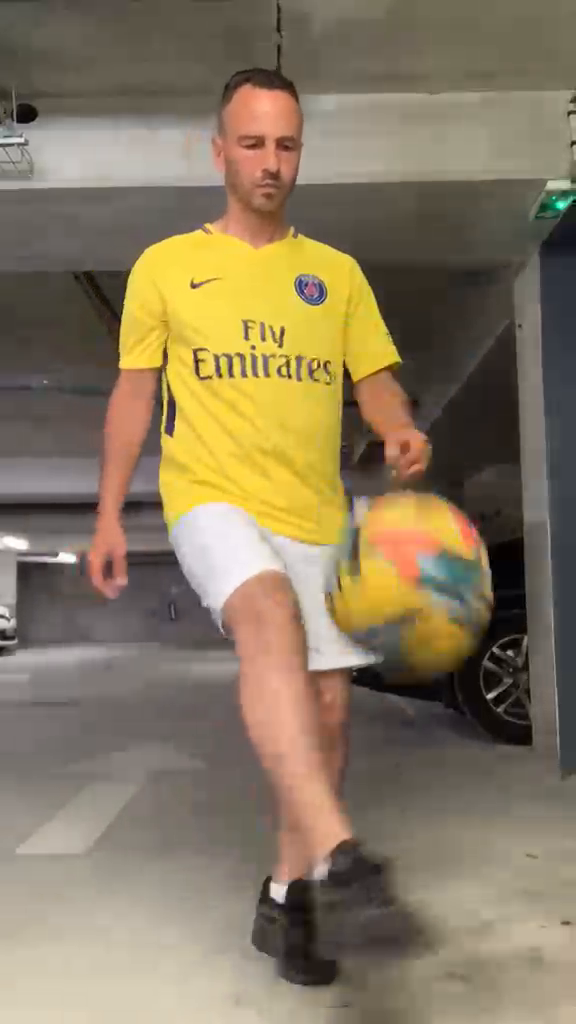ball: (311, 488, 511, 688)
